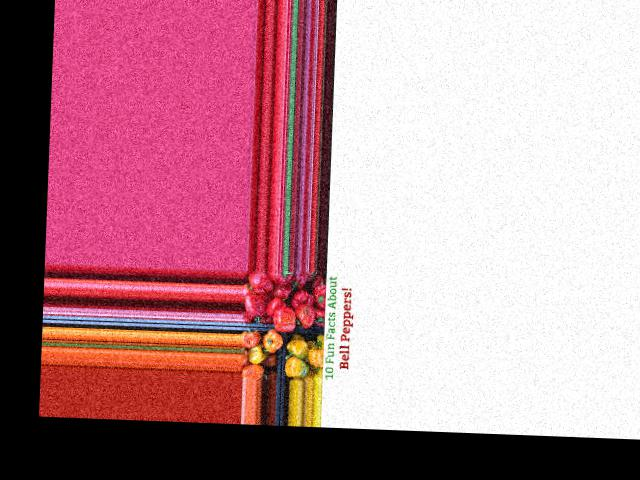bell_pepper: (308, 283, 329, 314)
